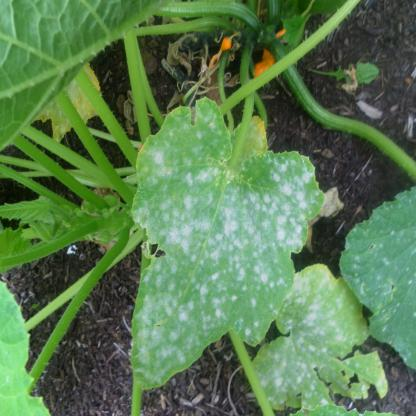squash powdery mildew leaf: (128, 95, 324, 385)
